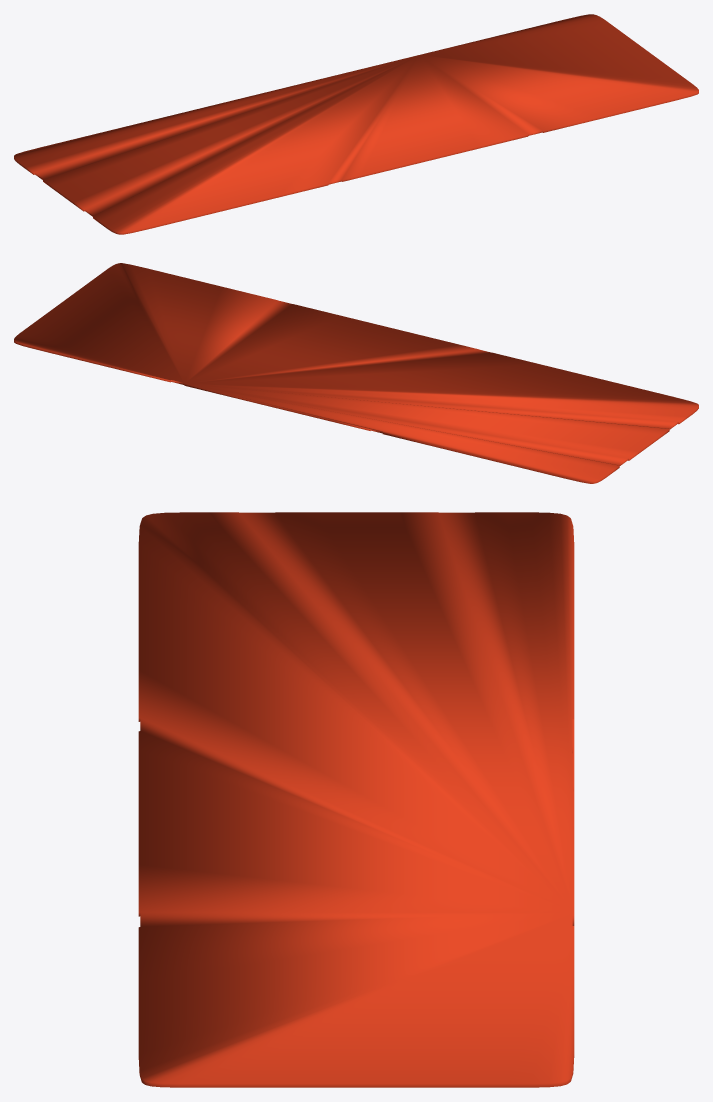
Rendered from Gurney_Thread.fbx.
3 views of the same model, one above another, from view 1: azimuth 30°, elevation 25°; view 2: azimuth 150°, elevation 25°; view 3: azimuth 270°, elevation 25° (orthographic). The views are drawn at different scales.
Visible parts, largest first — view 1: CoronersCartTEST.obj.044; view 2: CoronersCartTEST.obj.044; view 3: CoronersCartTEST.obj.044.
Boxes of the visible parts, left/top/right/bottom form: CoronersCartTEST.obj.044: left=14, top=14, right=698, bottom=234; CoronersCartTEST.obj.044: left=14, top=263, right=698, bottom=483; CoronersCartTEST.obj.044: left=138, top=512, right=574, bottom=1087.
Bounding box in the file's own units: 733 × 2.88 × 236.
